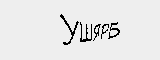Б: (108, 21, 120, 41)
Р: (99, 20, 110, 44)
У: (59, 12, 79, 49)
Ш: (78, 19, 93, 44)
Я: (92, 18, 100, 44)
